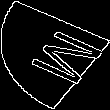M_SE: (9, 22, 101, 88)
